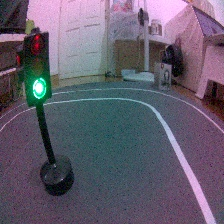green: (11, 26, 77, 199)
